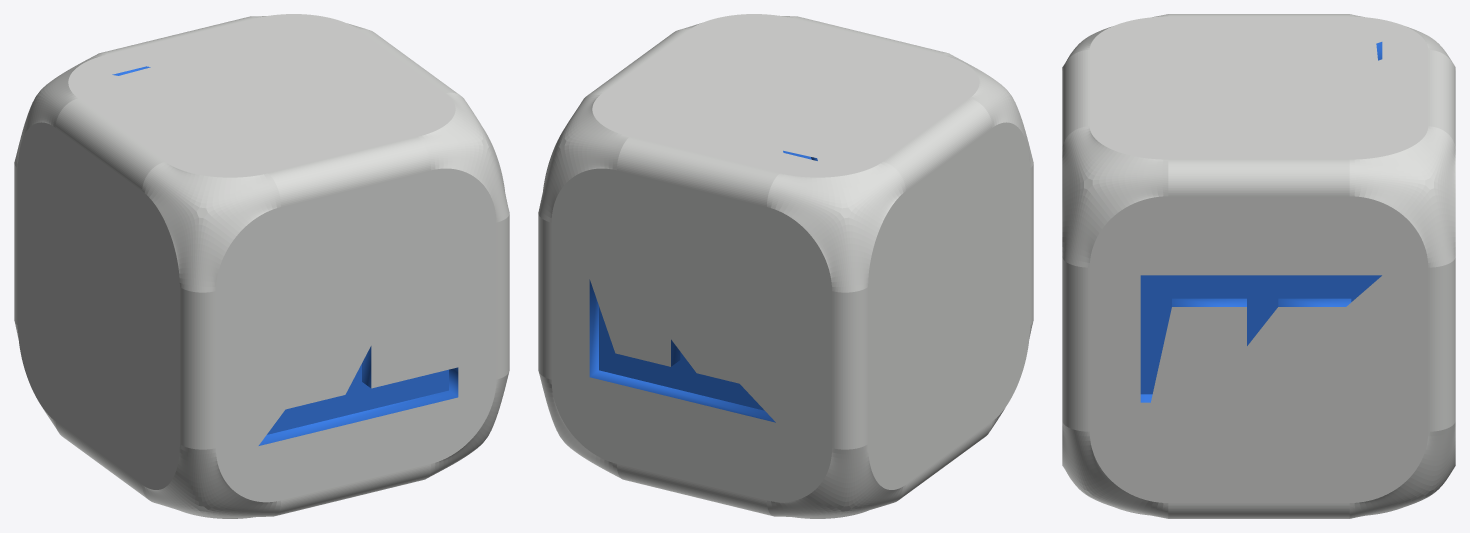
Rendered from BoggleDice.fbx_Die1.fbx.
3 views of the same model, side by side, from view 1: azimuth 30°, elevation 25°; view 2: azimuth 150°, elevation 25°; view 3: azimuth 270°, elevation 25° (orthographic). The views are drawn at different scales.
Parts seen in each view (by area): view 1: Die1; view 2: Die1; view 3: Die1.
Part boxes in pixels (x1,y1,x2,y2): Die1: (14,14,509,518); Die1: (538,14,1033,518); Die1: (1062,14,1455,518).
Size of the model in its own units: 200 by 200 by 200.
